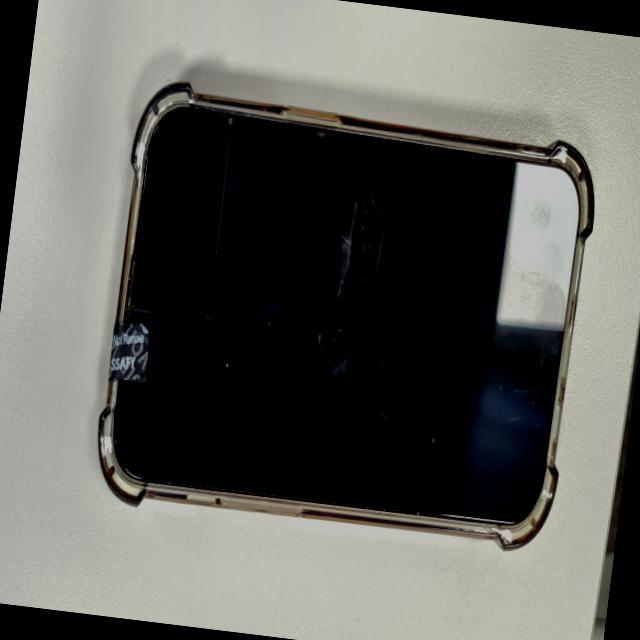phone: (87, 80, 603, 558)
removed_sticker: (104, 318, 152, 390)
